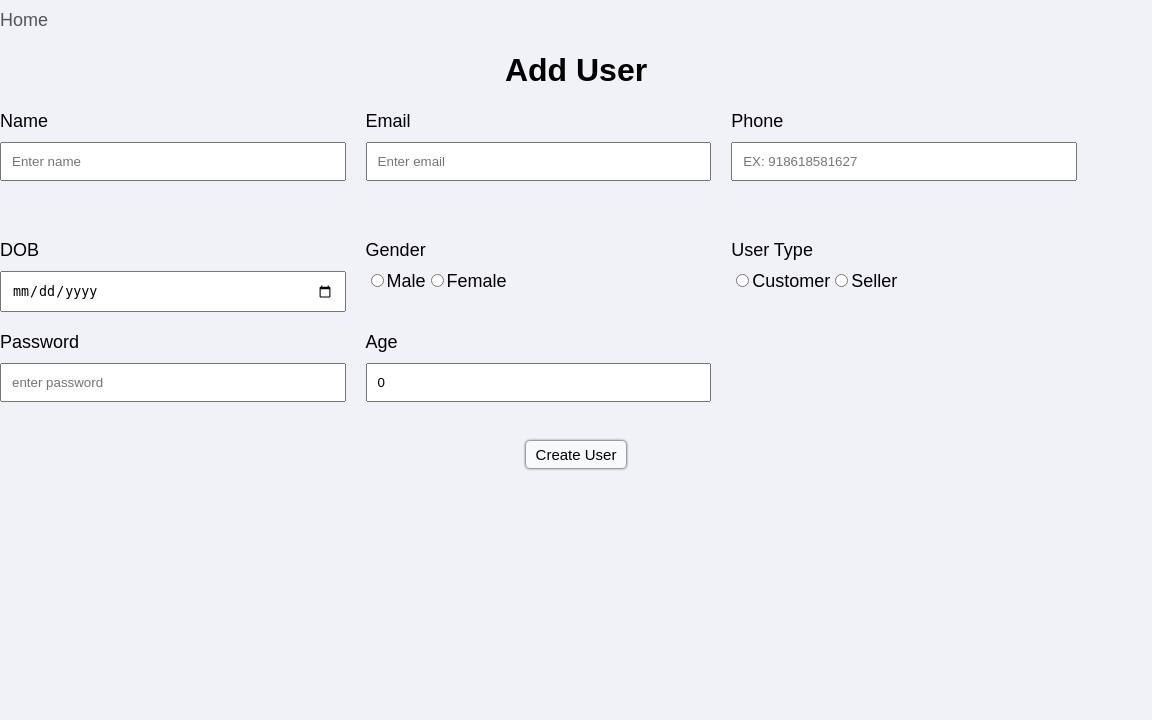
Admin Add User Page › shows server error message when API fails
Type "Shivanand" into the field with placeholder "Enter name" at (173, 161), box 0,142 -> 346,181
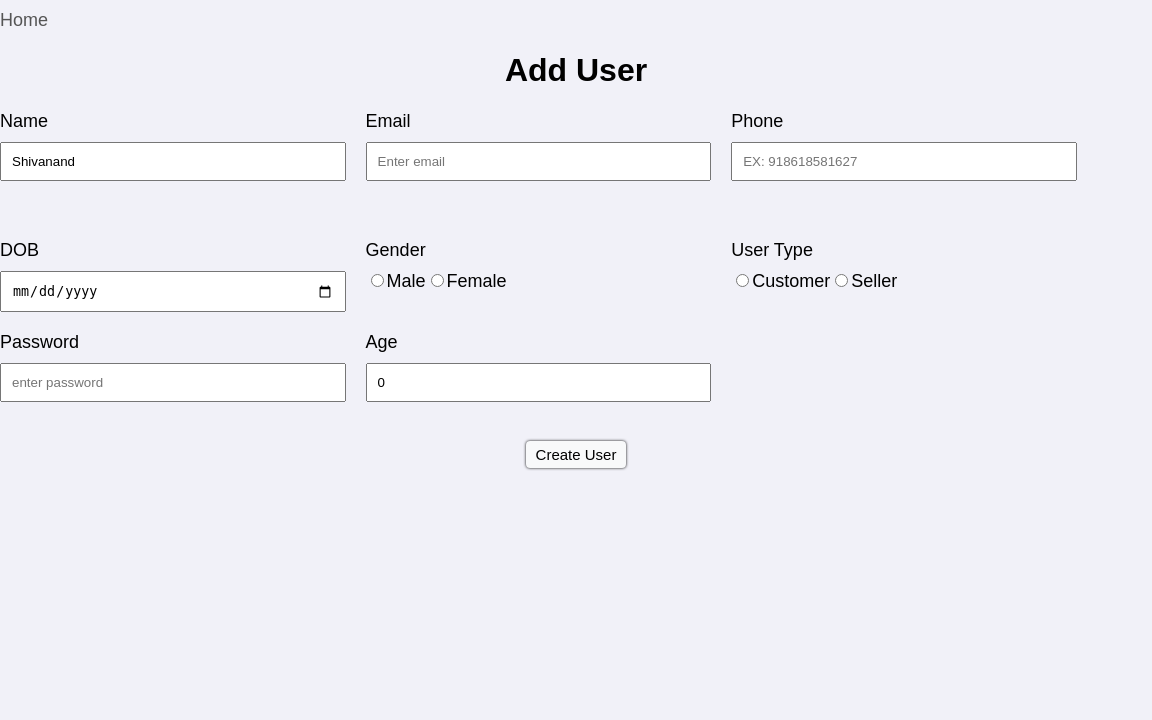
Type "test@gmail.com" into the field with placeholder "Enter email" at (538, 161), box 366,142 -> 711,181
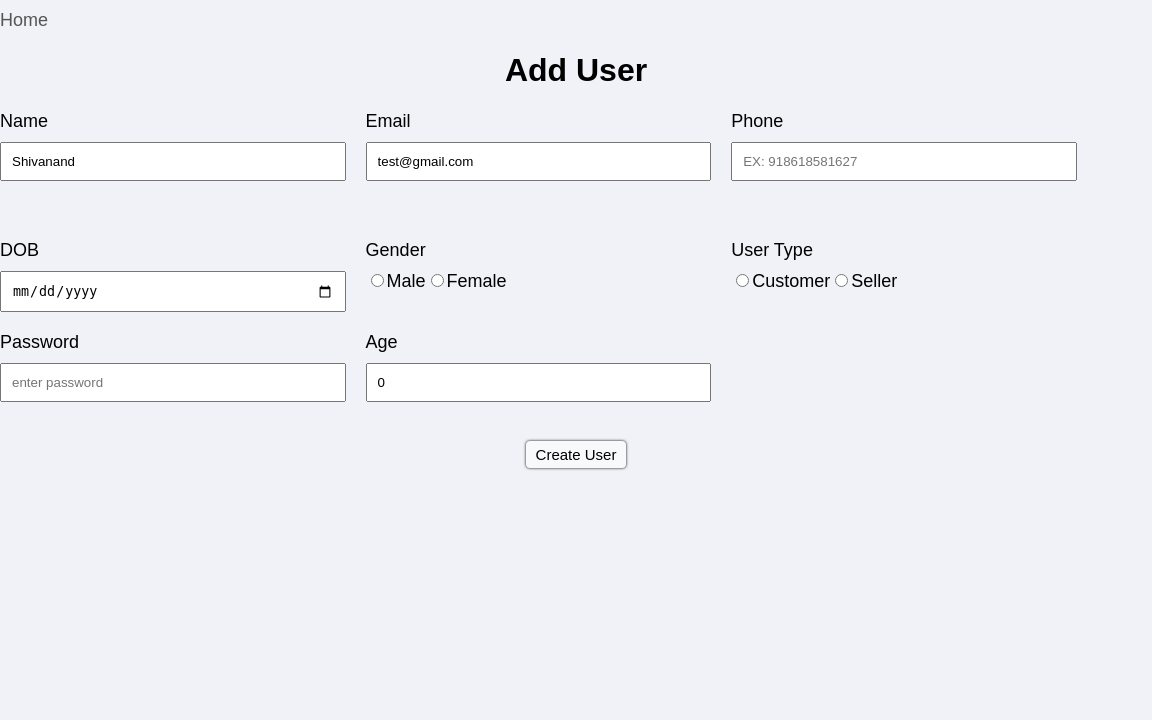
Type "Shivu@1234" into the password field labelled "Password" at (173, 383), box 0,363 -> 346,402
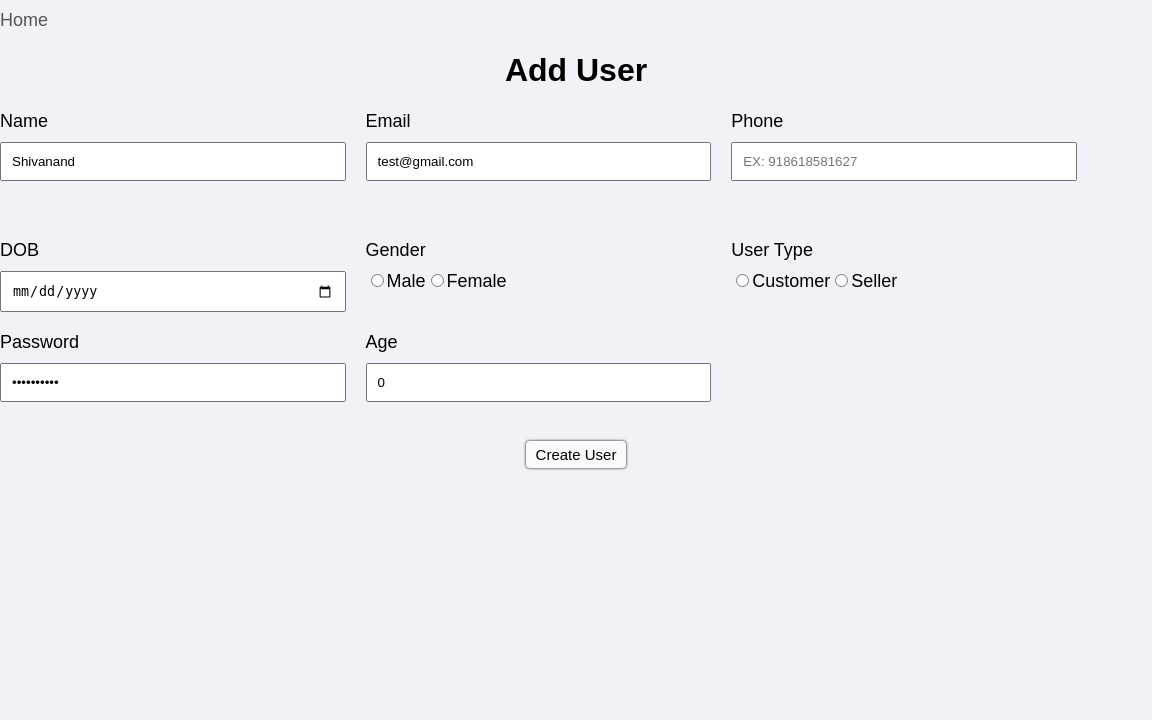
Click the button "Create User" at (576, 455), box 526,441 -> 626,468
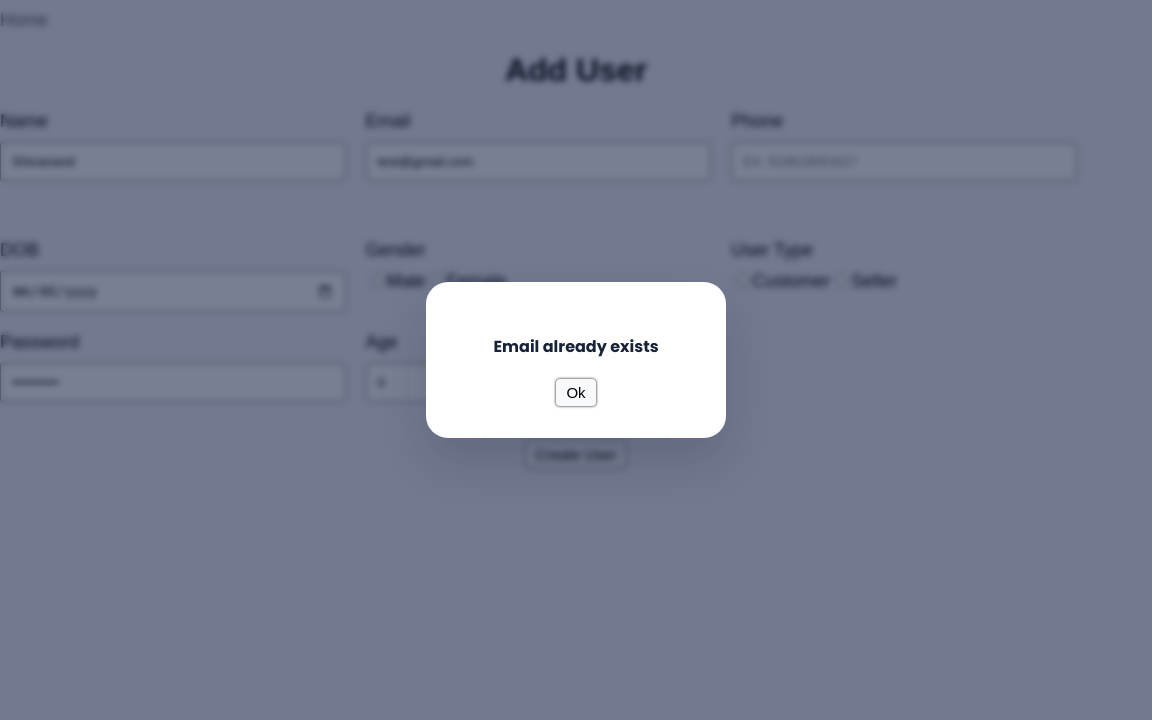
expect the heading "Email already exists" is shown: met, box 493,335 -> 659,358
